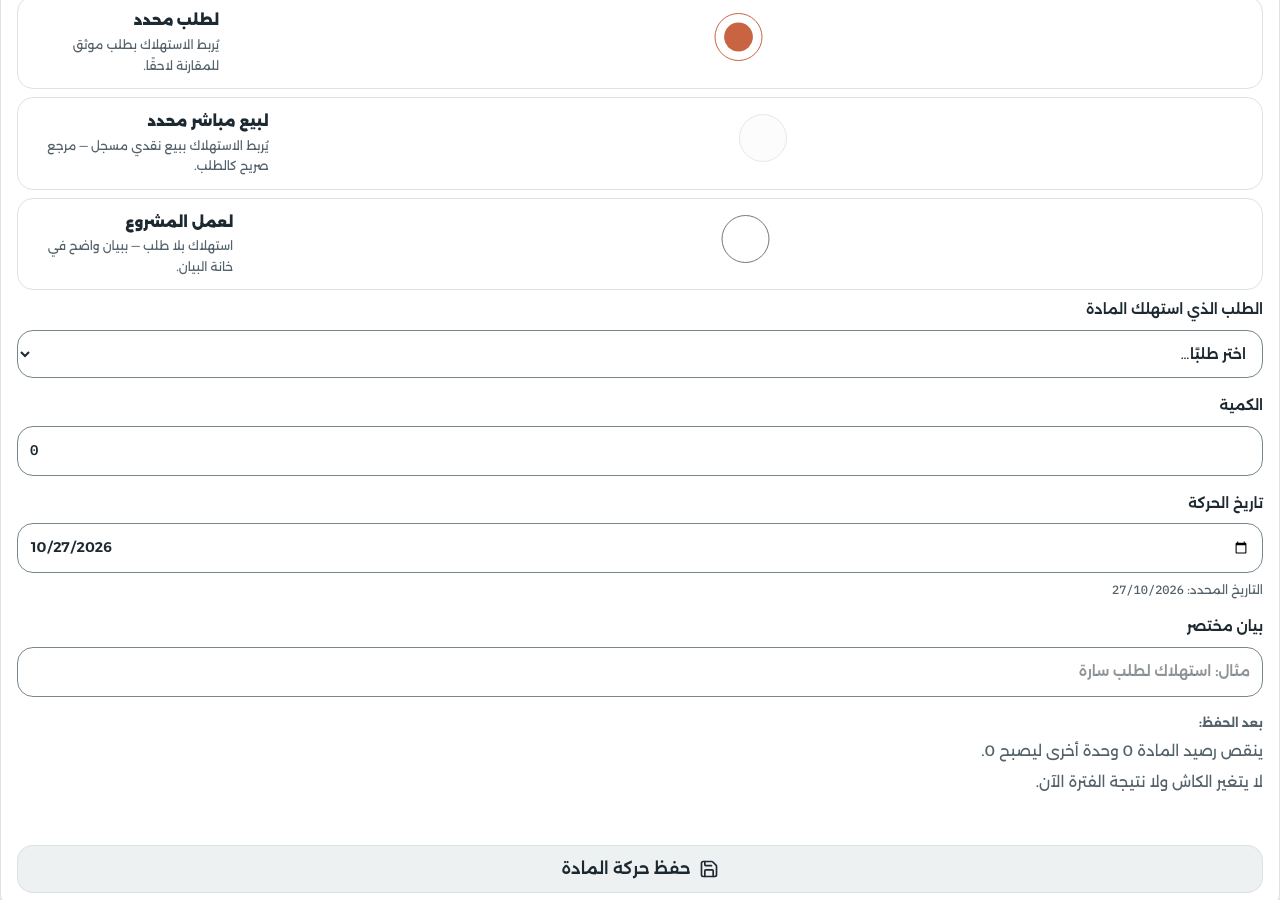
Test: OPS-001 — no silent first-record selection in the movement editor › a missing identifier starts without any selection and blocks saving until an explicit choice
The width and height of the screenshot is (1280, 900).
(page scrolled)
Replace the text in the field named "كمية حركة المادة" with "1" at (640, 451), box [17, 426, 1263, 476]
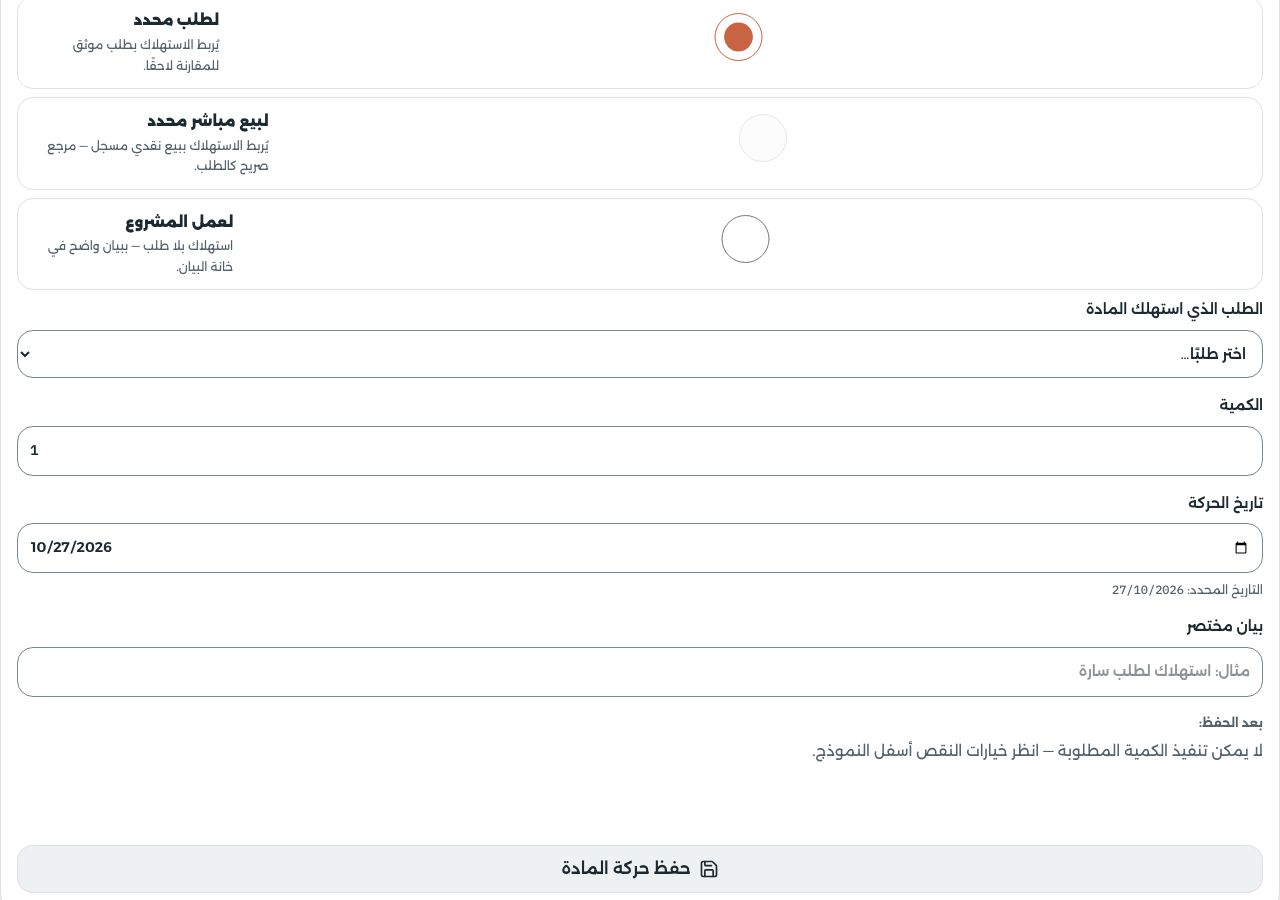
Type "بيان" into the field labelled "بيان مختصر".
click(640, 672); type("بيان")  # box [17, 647, 1263, 697]
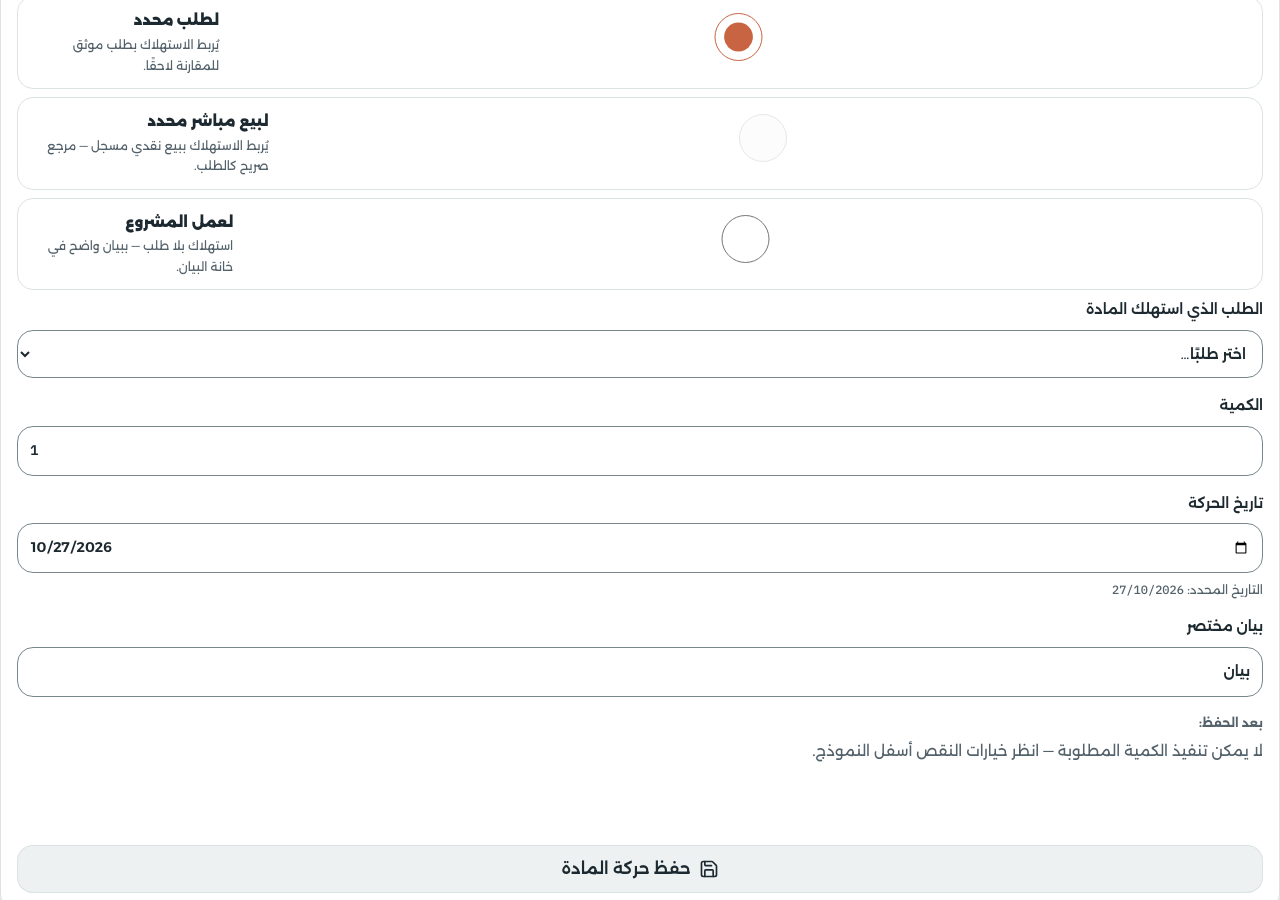
Click the button "حفظ حركة المادة".
click(640, 869)  # box [17, 845, 1263, 893]
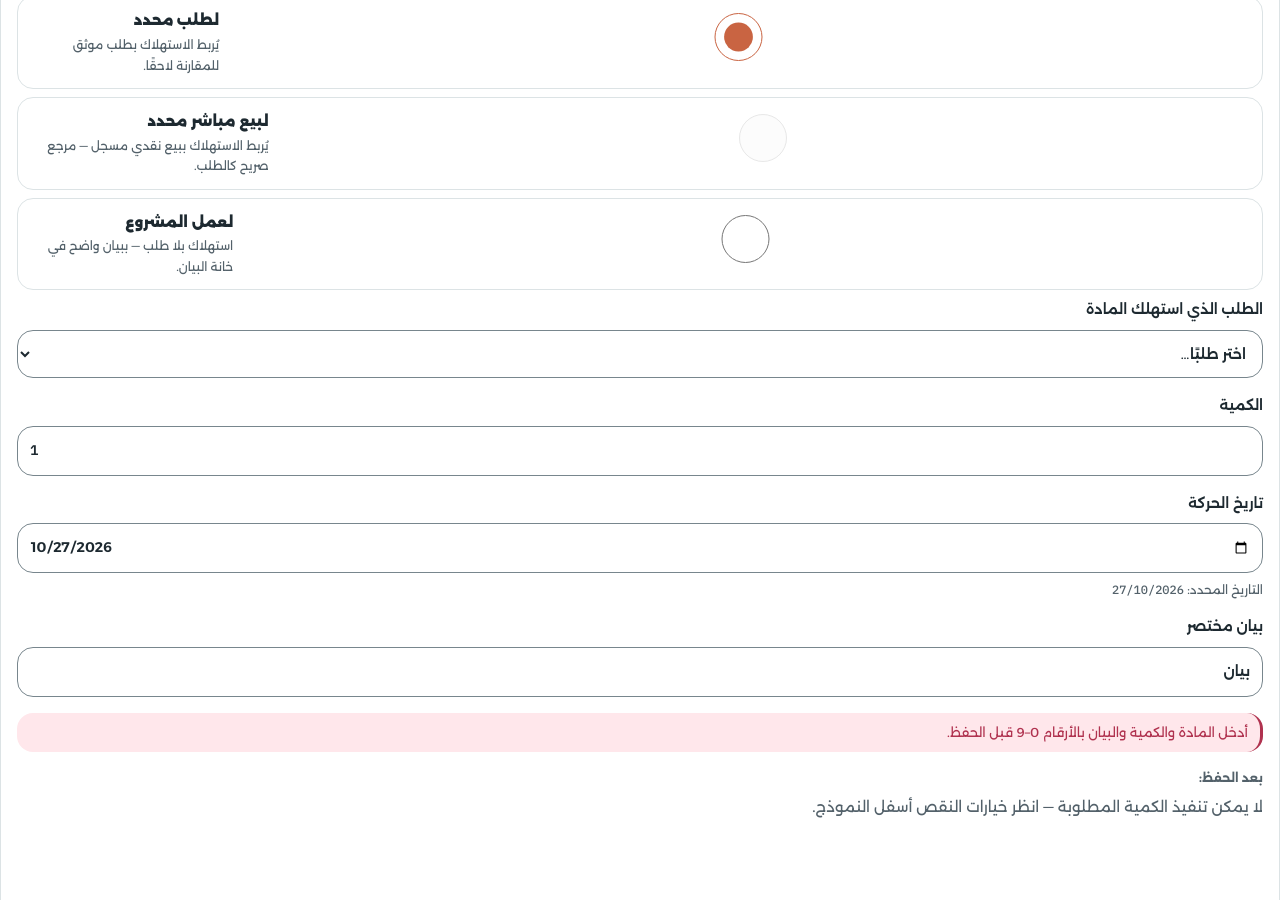
Expected: the text "أدخل المادة والكمية والبيان بالأرقام 0–9 قبل الحفظ." is shown, [17, 713, 1263, 752]
